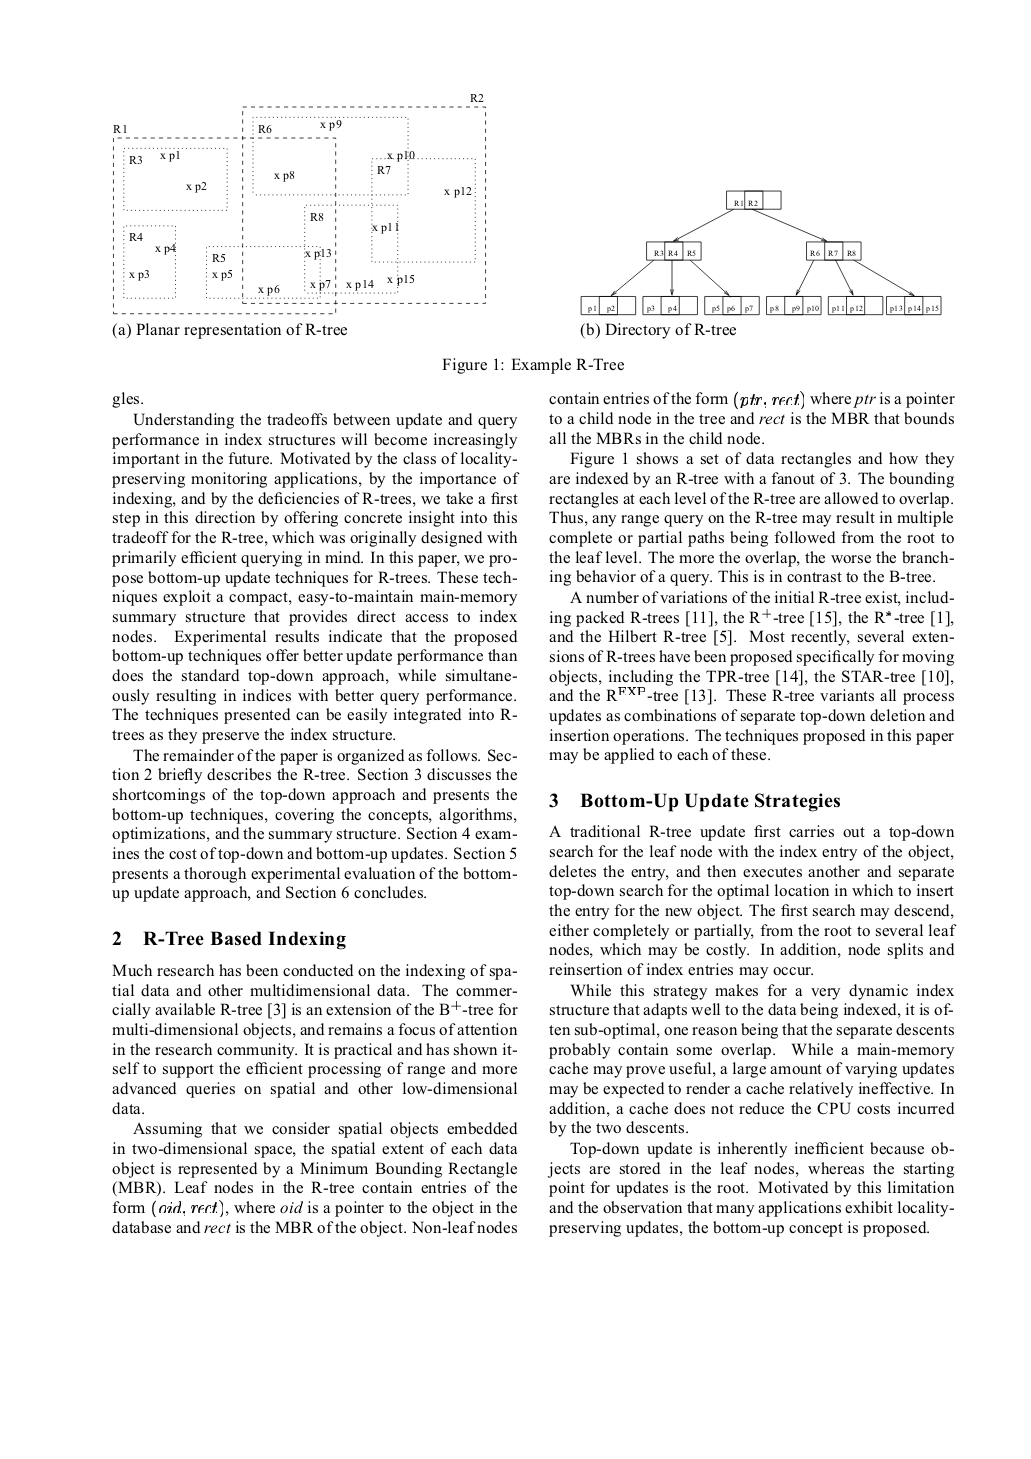figure: (113, 106, 485, 315), (580, 189, 941, 316)
